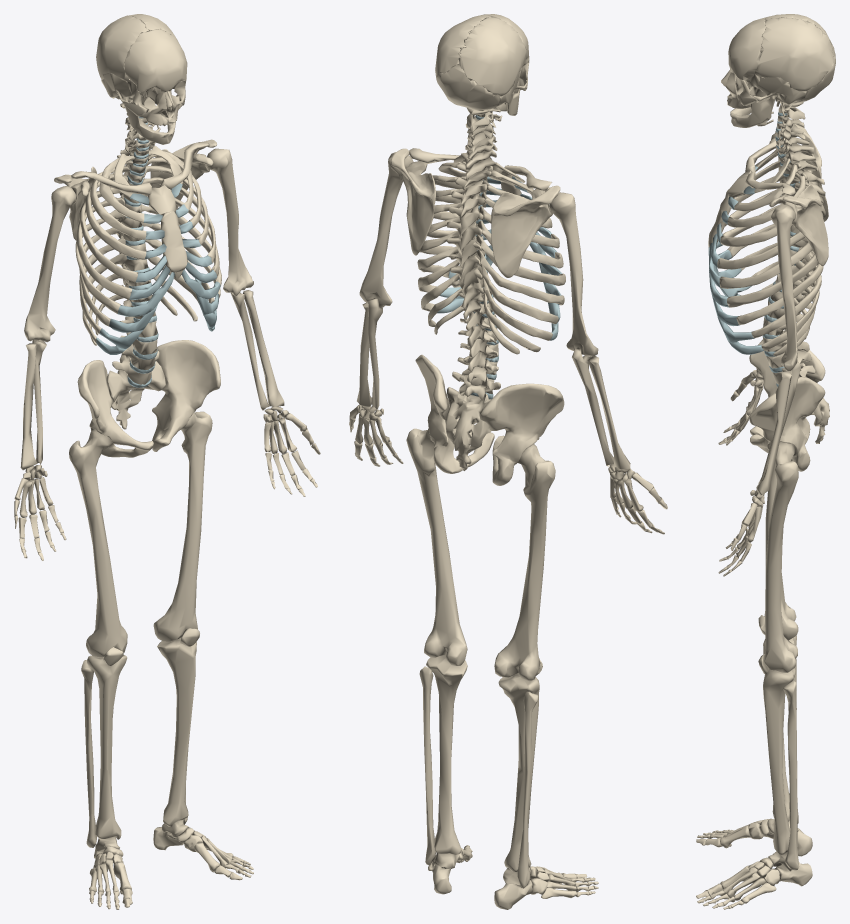
Rendered from skeleton.glb.
The picture shows the model from 3 angles, left to right: view 1: azimuth 30°, elevation 25°; view 2: azimuth 150°, elevation 25°; view 3: azimuth 270°, elevation 25°; orthographic projection. The views are drawn at different scales.
Parts seen in each view (by area): view 1: lower-limb-bones, ribcage, upper-limb-bones, skull, pelvis, spine; view 2: lower-limb-bones, upper-limb-bones, ribcage, spine, skull, pelvis; view 3: lower-limb-bones, ribcage, upper-limb-bones, skull, spine, pelvis.
Boxes of the visible parts, <box> form: lower-limb-bones: <box>69,411,253,909</box>; ribcage: <box>75,146,221,354</box>; upper-limb-bones: <box>14,139,320,560</box>; skull: <box>96,14,187,144</box>; pelvis: <box>77,340,220,457</box>; spine: <box>107,99,165,429</box>; lower-limb-bones: <box>406,428,598,909</box>; upper-limb-bones: <box>349,148,667,534</box>; ribcage: <box>417,155,565,354</box>; spine: <box>445,107,500,470</box>; skull: <box>435,14,529,121</box>; pelvis: <box>415,354,564,485</box>; lower-limb-bones: <box>696,442,812,909</box>; ribcage: <box>708,144,823,355</box>; upper-limb-bones: <box>718,124,828,576</box>; skull: <box>721,14,835,127</box>; spine: <box>762,102,829,443</box>; pelvis: <box>749,330,825,471</box>.
Size of the model in its own units: 0.6473 by 1.71 by 0.2538.
